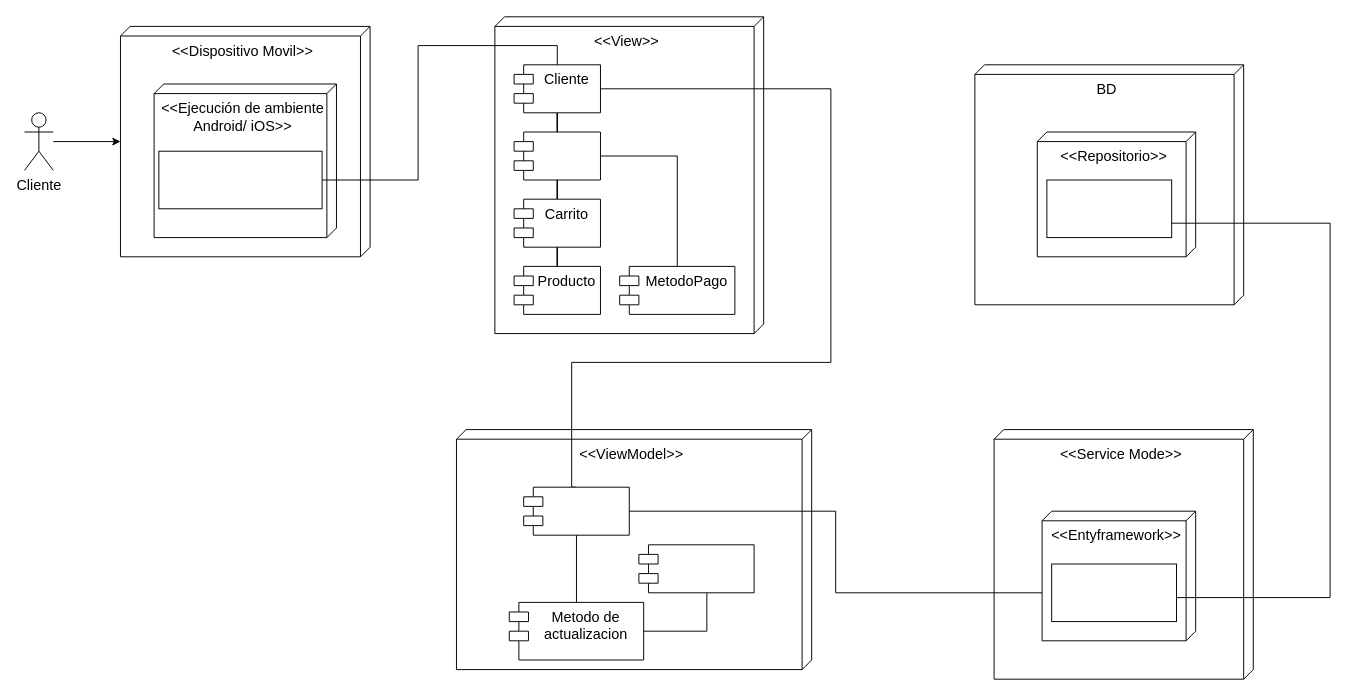
Some shapes in this 1348 by 696 pixel diagram are drawn without their labels. The shapes that lost their labels are listed below. From the top down, each one's centre as x and y in pixels, then its label:
pixel 556 155: Compra
pixel 240 179: << Aplicativo Movil >>
pixel 1109 208: <<MySQL>>
pixel 576 510: Métodos de registros
pixel 696 568: Método de visualización
pixel 1113 592: <<ORM >>
